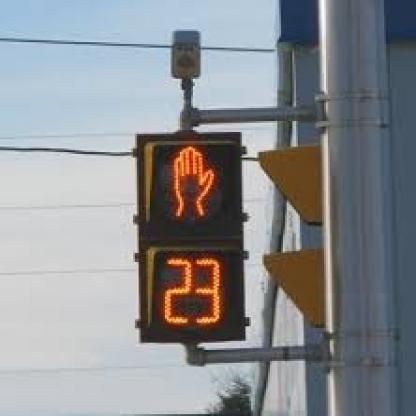Don-t Walk: (141, 139, 243, 234)
